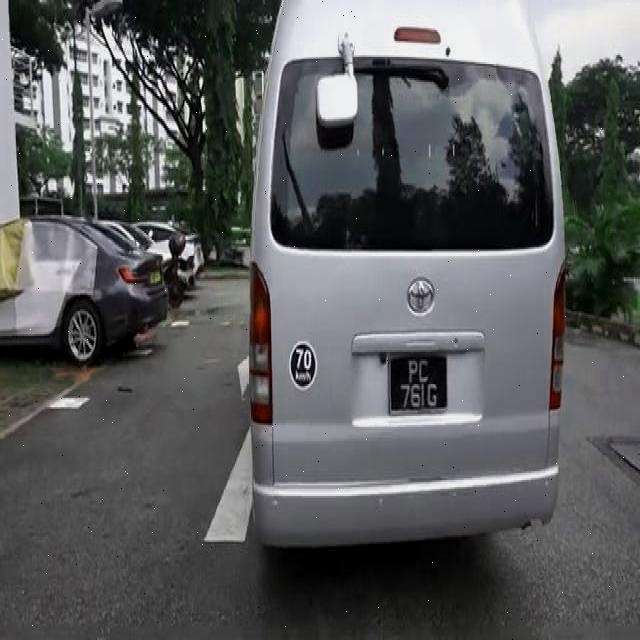Van: (249, 4, 567, 548)
